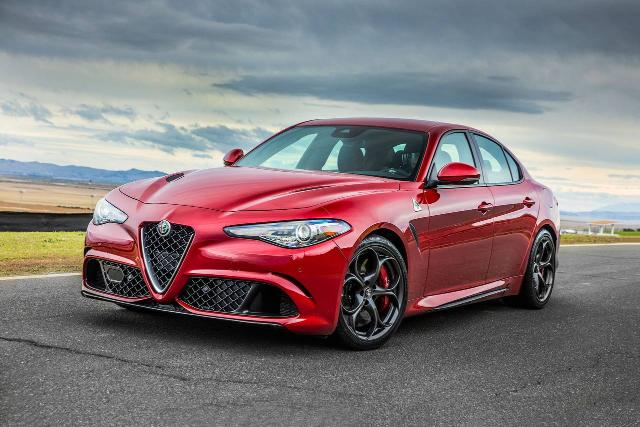alpha-romeo: (83, 117, 562, 352)
